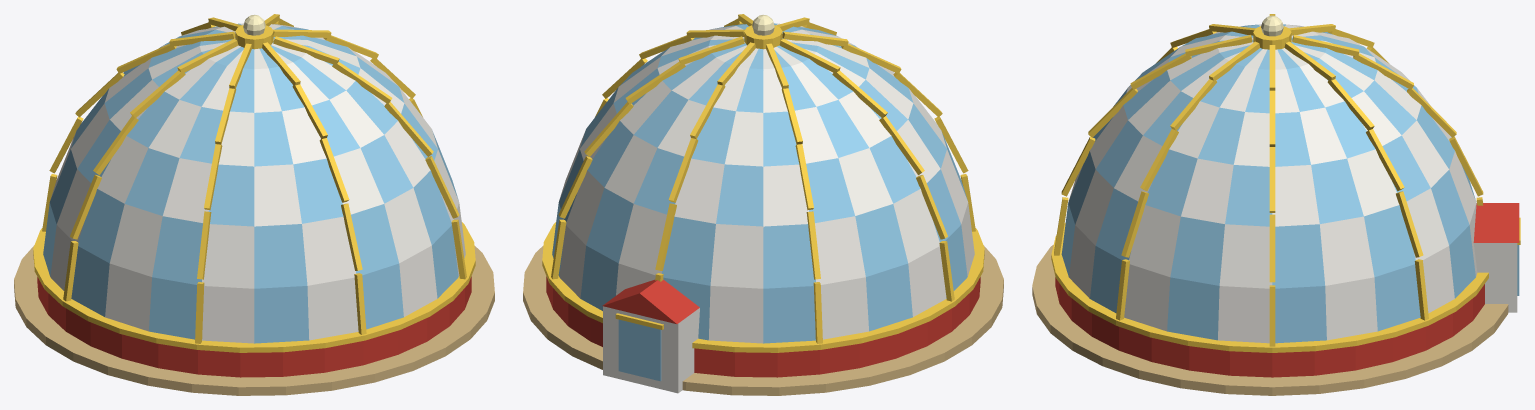
The model's file is MegaDome.fbx.
The picture shows the model from 3 angles, left to right: view 1: azimuth 30°, elevation 25°; view 2: azimuth 150°, elevation 25°; view 3: azimuth 270°, elevation 25°; orthographic projection.
Parts seen in each view (by area): view 1: MegaDome; view 2: MegaDome; view 3: MegaDome.
Part boxes in pixels (bbox=[...]): MegaDome: bbox=[14, 14, 494, 395]; MegaDome: bbox=[523, 14, 1003, 395]; MegaDome: bbox=[1032, 14, 1520, 395].
Size of the model in its own units: 1400 by 893 by 1424.
